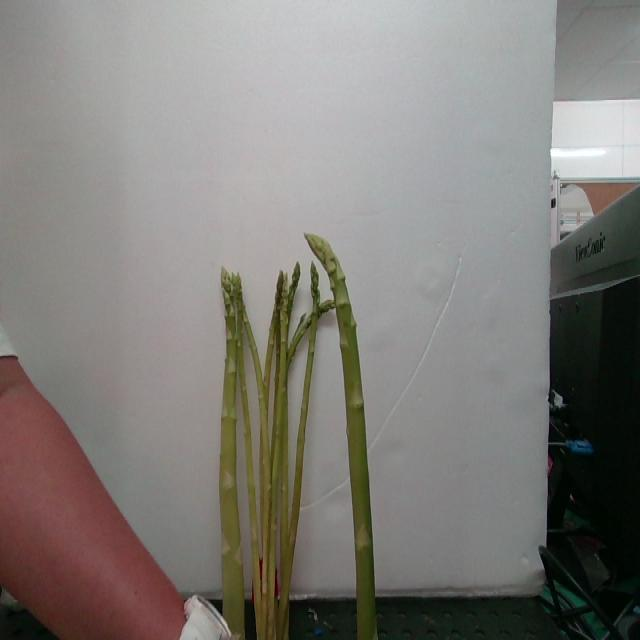aspargus: (306, 234, 379, 640), (216, 265, 249, 640)
